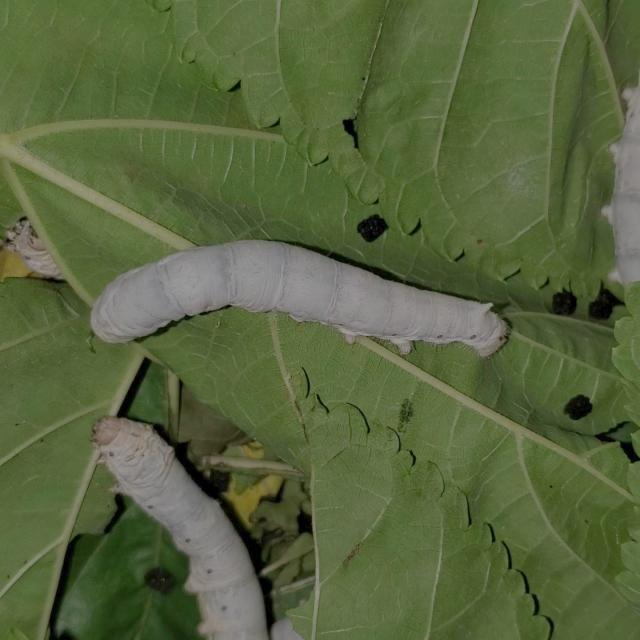Healthy: (84, 210, 516, 383)
